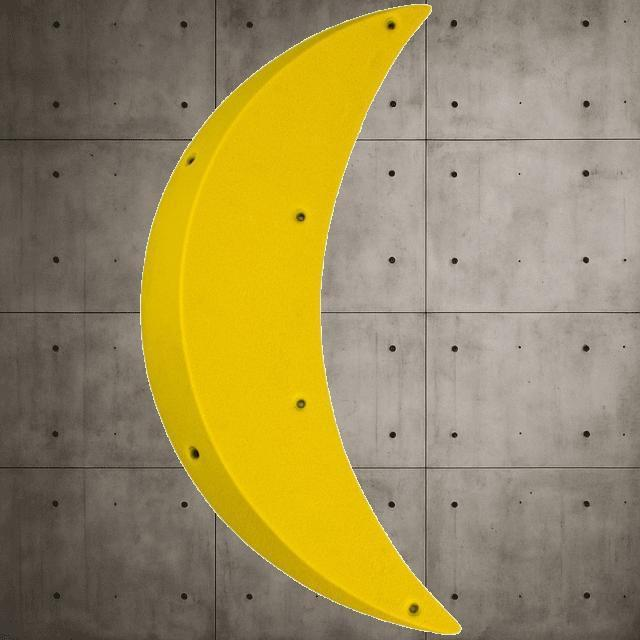Sloper: (140, 2, 462, 634)
